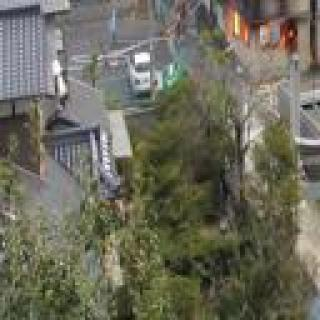fire: (208, 0, 302, 65)
